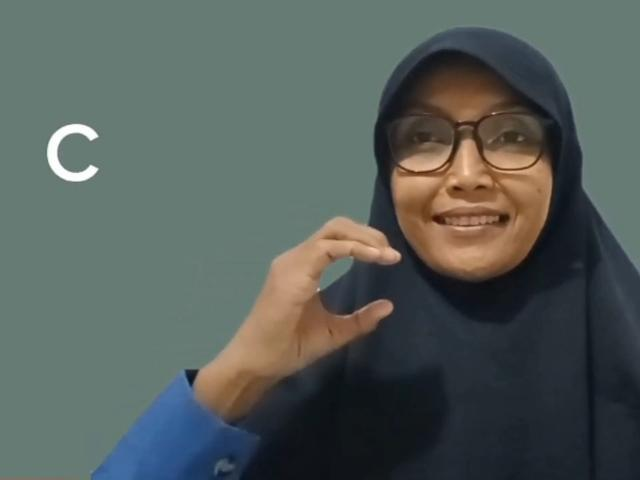C: (243, 213, 402, 370)
